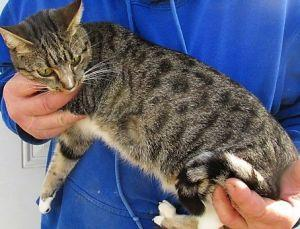bengal: (1, 1, 99, 100)
